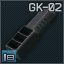GK-02 12ga muzzle brake: (0, 0, 64, 64)
